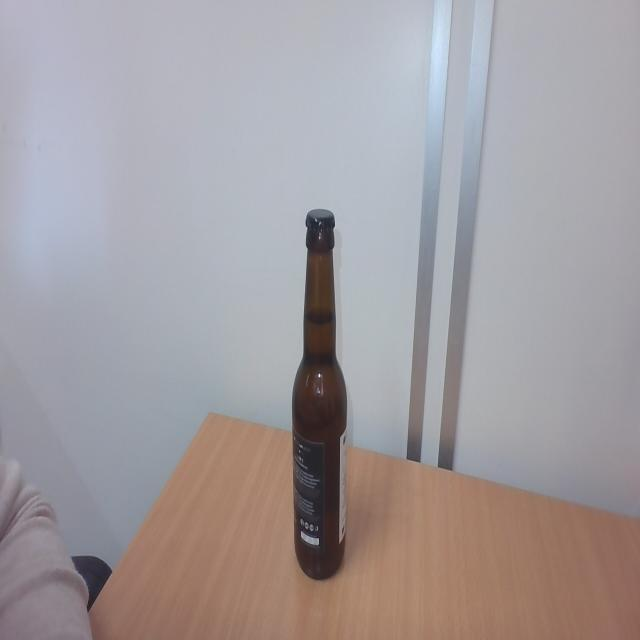Bottle: (290, 235, 348, 583)
Cap: (302, 206, 338, 236)
Label: (292, 438, 348, 544)
